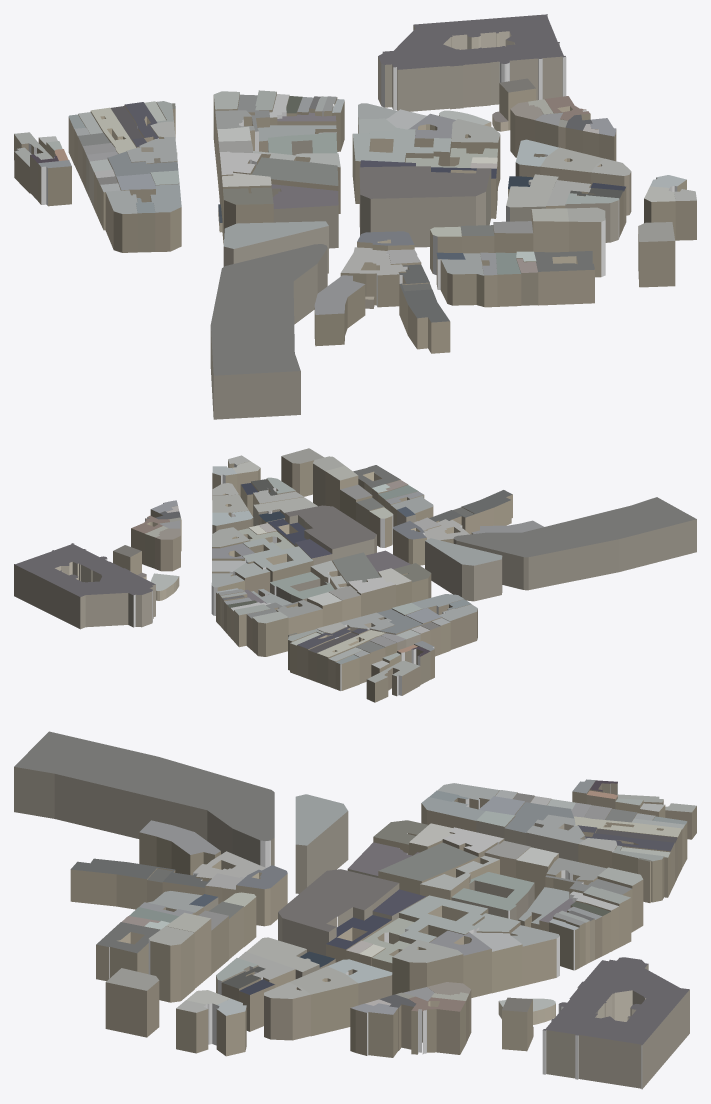
The picture shows the model from 3 angles, top to bottom: view 1: azimuth 30°, elevation 25°; view 2: azimuth 150°, elevation 25°; view 3: azimuth 270°, elevation 25°; orthographic projection. The views are drawn at different scales.
Parts seen in each view (by area): view 1: tuile; view 2: tuile; view 3: tuile.
Part boxes in pixels (x1=…): tuile: x1=14, y1=14, x2=696, y2=419; tuile: x1=14, y1=448, x2=696, y2=702; tuile: x1=14, y1=731, x2=696, y2=1089.
Bounding box in the file's own units: 341 × 32.53 × 314.
